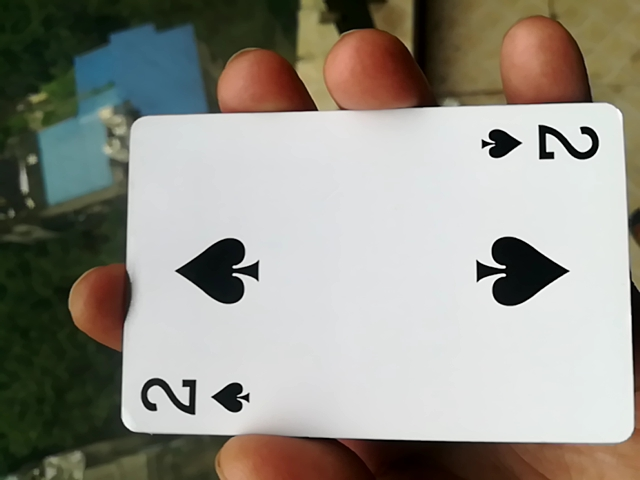ht 2: (108, 111, 629, 462)
